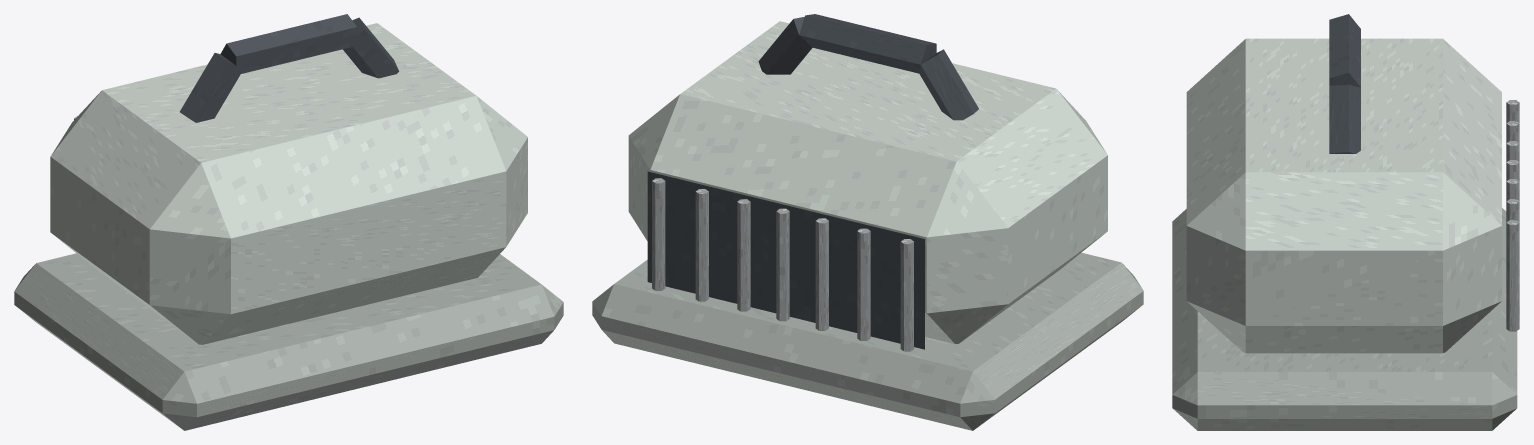
File: pet_carrier.glb
3 renders of one model, left to right at view 1: azimuth 30°, elevation 25°; view 2: azimuth 150°, elevation 25°; view 3: azimuth 270°, elevation 25°, orthographic.
Parts seen in each view (by area): view 1: block_vented shell, block_pet carrier tray, block_carrying handle 1, block_carrying handle 0, block_carrying handle 2; view 2: block_vented shell, block_pet carrier tray, block_open door shade, block_carrier door bar (×7), block_carrying handle 1, block_carrying handle 0, block_carrying handle 2; view 3: block_vented shell, block_pet carrier tray, block_carrying handle 2, block_carrying handle 1, block_carrier door bar.
Boxes of the visible parts, x1,y1,x2,y2 form: block_vented shell: (50, 23, 527, 344); block_pet carrier tray: (14, 253, 563, 430); block_carrying handle 1: (220, 14, 357, 74); block_carrying handle 0: (179, 53, 242, 122); block_carrying handle 2: (343, 17, 399, 78); block_vented shell: (628, 21, 1107, 344); block_pet carrier tray: (592, 252, 1143, 430); block_open door shade: (647, 171, 924, 349); block_carrier door bar (×7): (652, 178, 913, 351); block_carrying handle 1: (799, 14, 936, 73); block_carrying handle 0: (919, 49, 978, 120); block_carrying handle 2: (758, 17, 812, 74); block_vented shell: (1186, 38, 1501, 353); block_pet carrier tray: (1172, 208, 1517, 430); block_carrying handle 2: (1329, 84, 1360, 153); block_carrying handle 1: (1329, 14, 1360, 87); block_carrier door bar: (1506, 220, 1519, 331).
Bounding box in the file's own units: 0.3249 × 0.2344 × 0.245.
1 material, 1 textured.
